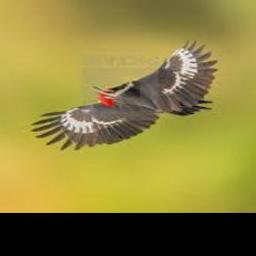Woodpecker: (30, 40, 219, 151)
